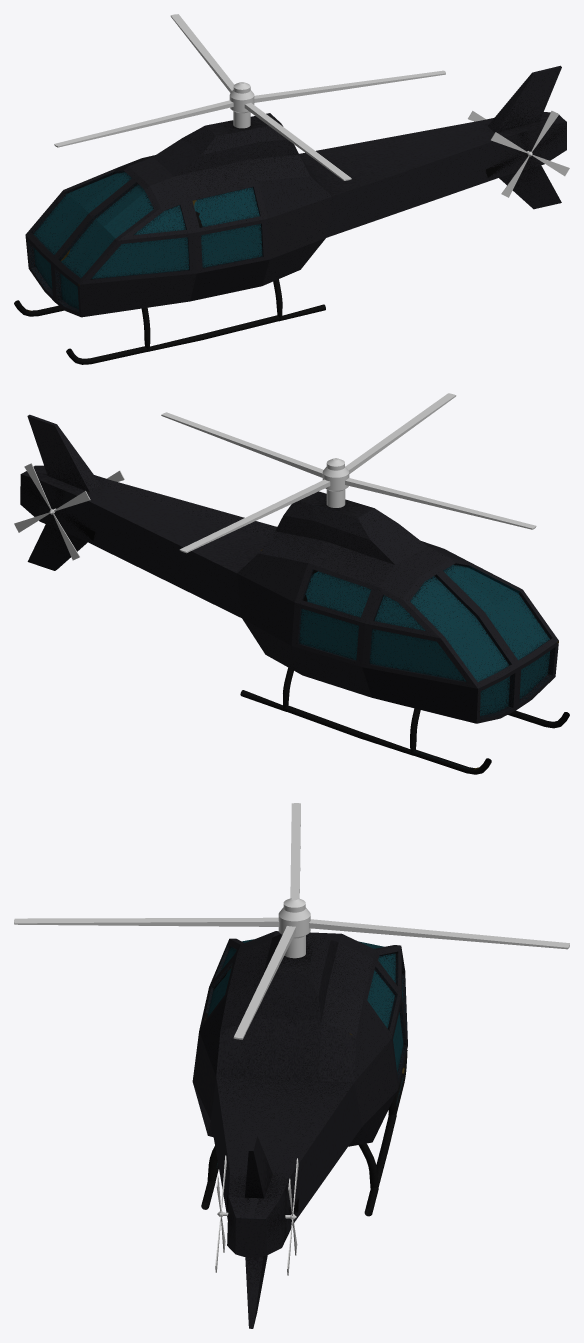
File: anim_000248.obj
3 views of the same model, one above another, from view 1: azimuth 30°, elevation 25°; view 2: azimuth 150°, elevation 25°; view 3: azimuth 270°, elevation 25° (orthographic). The views are drawn at different scales.
Visible parts, largest first — view 1: Helicopter.007_Cylinder.008, Helicopter.001_Cylinder.001, Helicopter.003_Cylinder.004; view 2: Helicopter.007_Cylinder.008, Helicopter.001_Cylinder.001, Helicopter.004_Cylinder.005; view 3: Helicopter.007_Cylinder.008, Helicopter.001_Cylinder.001.
Part boxes in pixels (box(x1,y1,x2,y2)): Helicopter.007_Cylinder.008: box(14, 65, 566, 364); Helicopter.001_Cylinder.001: box(54, 14, 445, 180); Helicopter.003_Cylinder.004: box(491, 111, 569, 197); Helicopter.007_Cylinder.008: box(20, 414, 569, 774); Helicopter.001_Cylinder.001: box(161, 393, 536, 553); Helicopter.004_Cylinder.005: box(14, 463, 90, 560); Helicopter.007_Cylinder.008: box(192, 931, 407, 1328); Helicopter.001_Cylinder.001: box(14, 803, 569, 1039).
Size of the model in its own units: 7.55 by 3.21 by 5.55.
